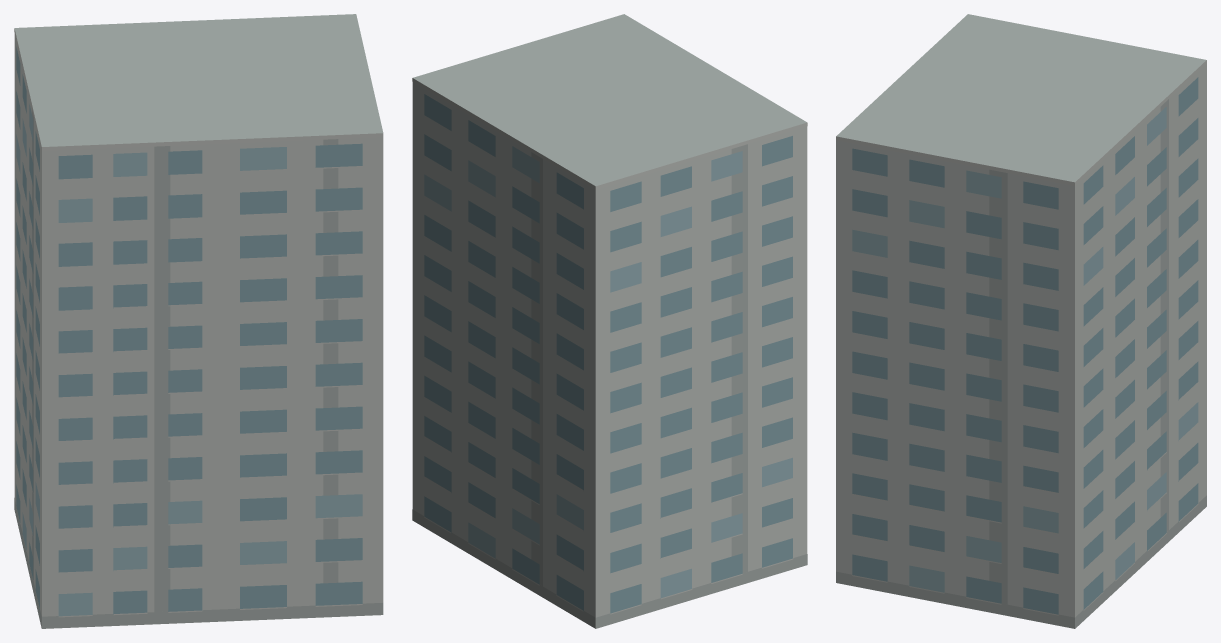
The model's file is residential-936e7639-d155-4712-8967-e590e75613c5.glb.
3 views of the same model, side by side, from view 1: azimuth 30°, elevation 25°; view 2: azimuth 150°, elevation 25°; view 3: azimuth 270°, elevation 25° (orthographic). The views are drawn at different scales.
Visible parts, largest first — view 1: residential-936e7639-d155-4712-8967-e590e75613c5.tmp; view 2: residential-936e7639-d155-4712-8967-e590e75613c5.tmp; view 3: residential-936e7639-d155-4712-8967-e590e75613c5.tmp.
Boxes of the visible parts, x1,y1,x2,y2 form: residential-936e7639-d155-4712-8967-e590e75613c5.tmp: (14, 14, 383, 628); residential-936e7639-d155-4712-8967-e590e75613c5.tmp: (412, 14, 807, 628); residential-936e7639-d155-4712-8967-e590e75613c5.tmp: (836, 14, 1206, 628).
Bounding box in the file's own units: 23.46 × 29 × 21.83.
